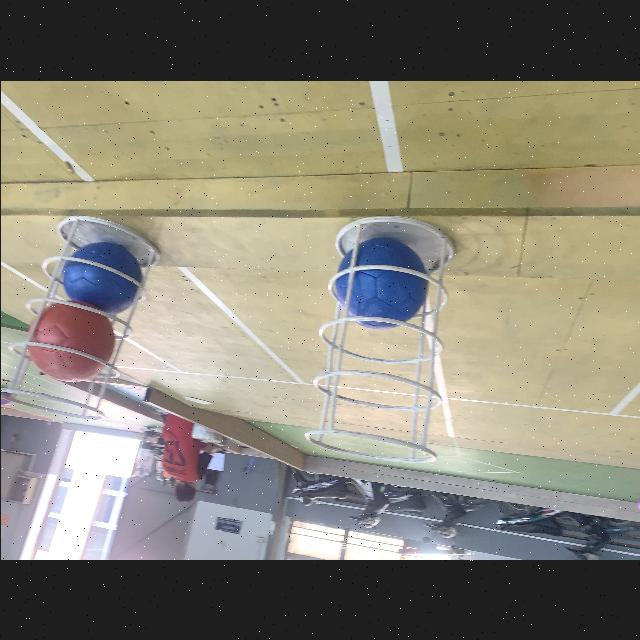B: (330, 235, 430, 329), (61, 241, 145, 315)
R: (24, 297, 116, 385)
